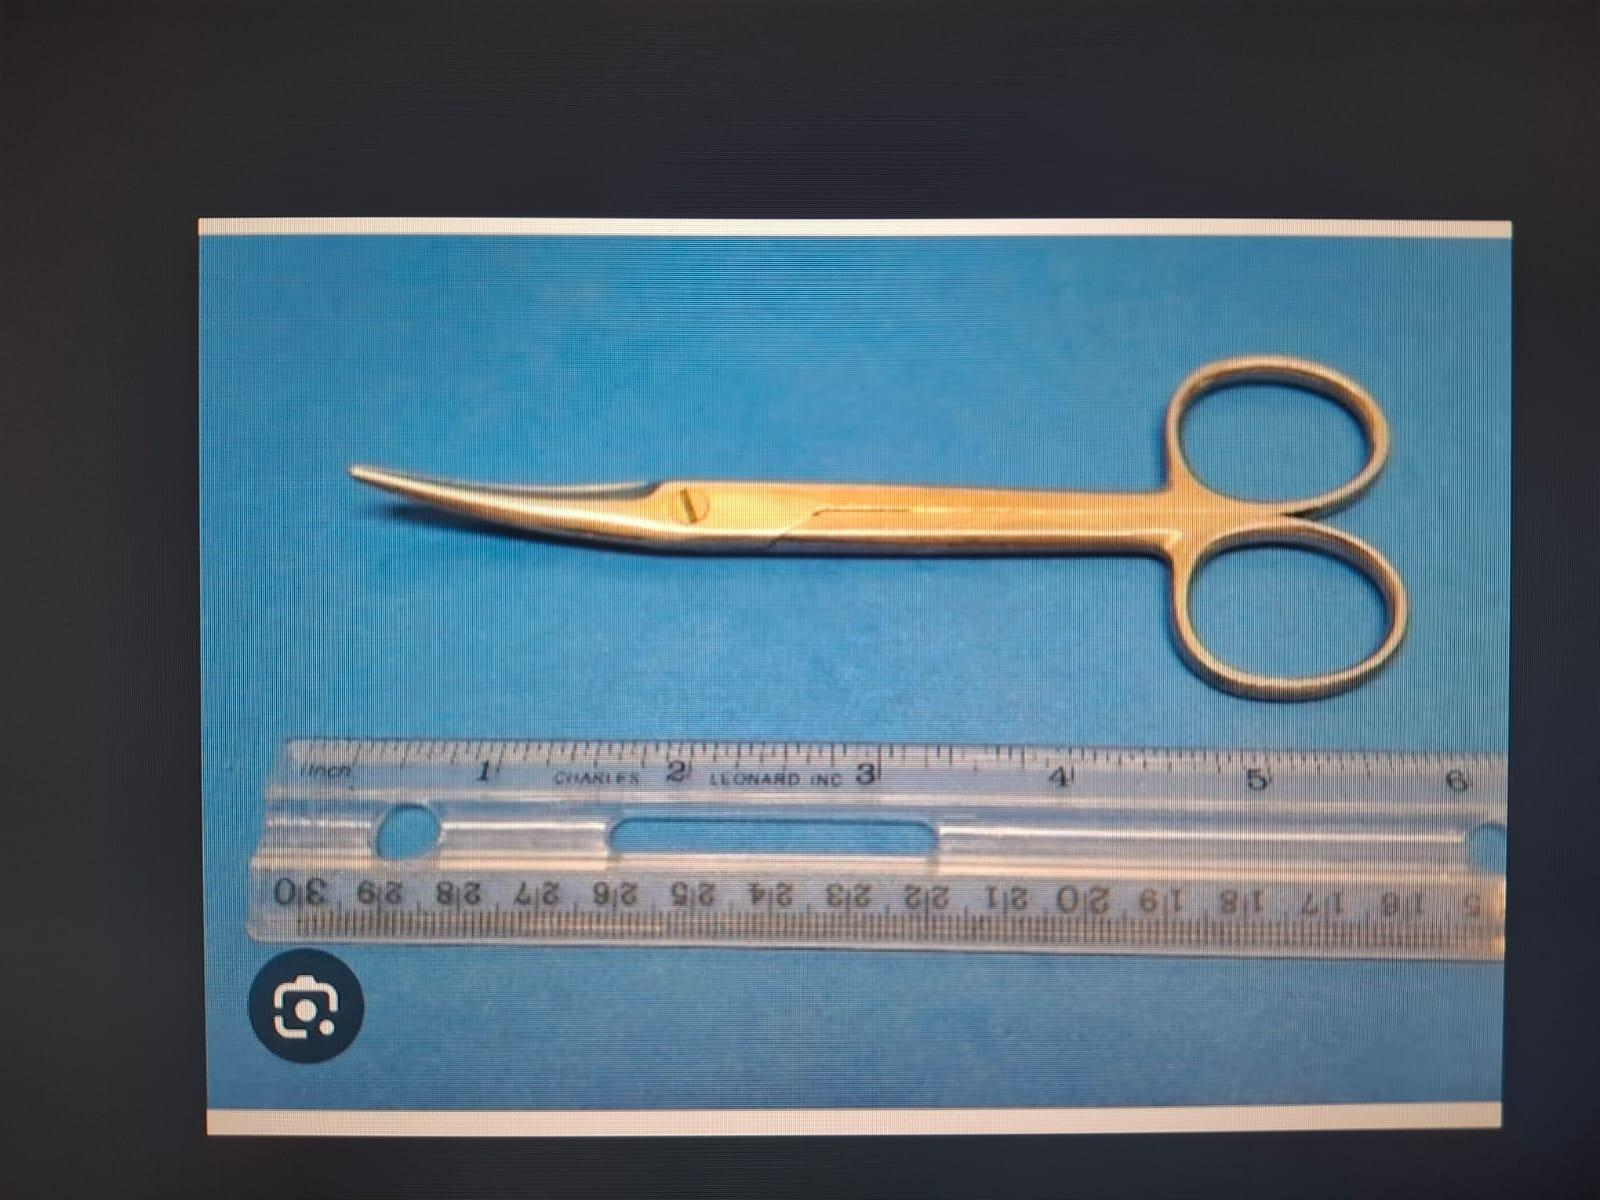Curved Mayo: (336, 330, 1428, 718)
